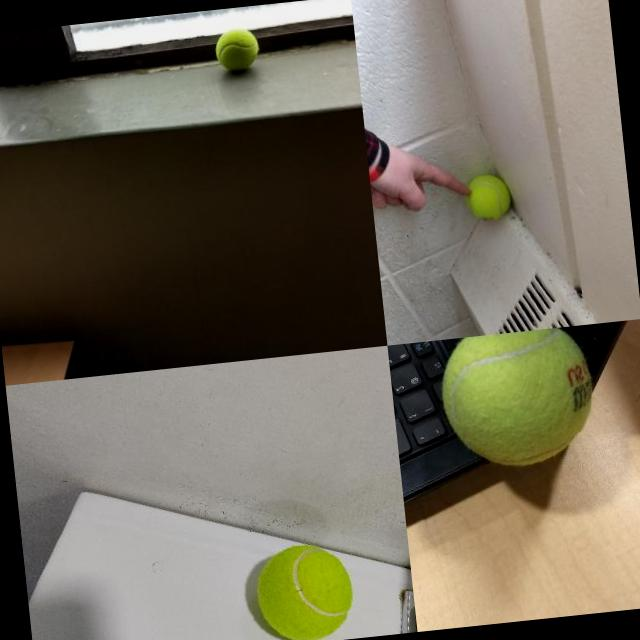Tennis Ball: (434, 324, 603, 474), (250, 539, 357, 640), (463, 172, 513, 222), (213, 26, 260, 73)
